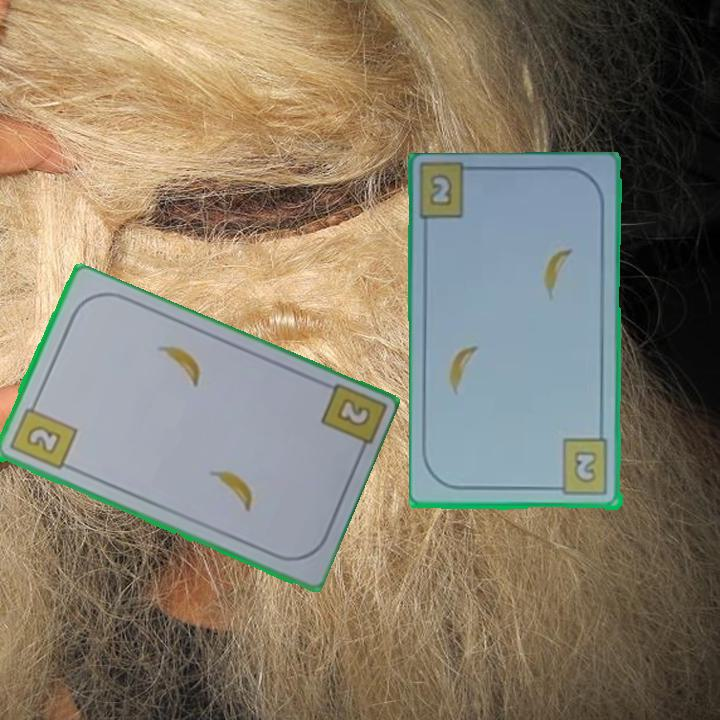2b: (5, 397, 79, 473), (550, 437, 612, 498), (332, 394, 374, 430), (426, 170, 455, 210)
